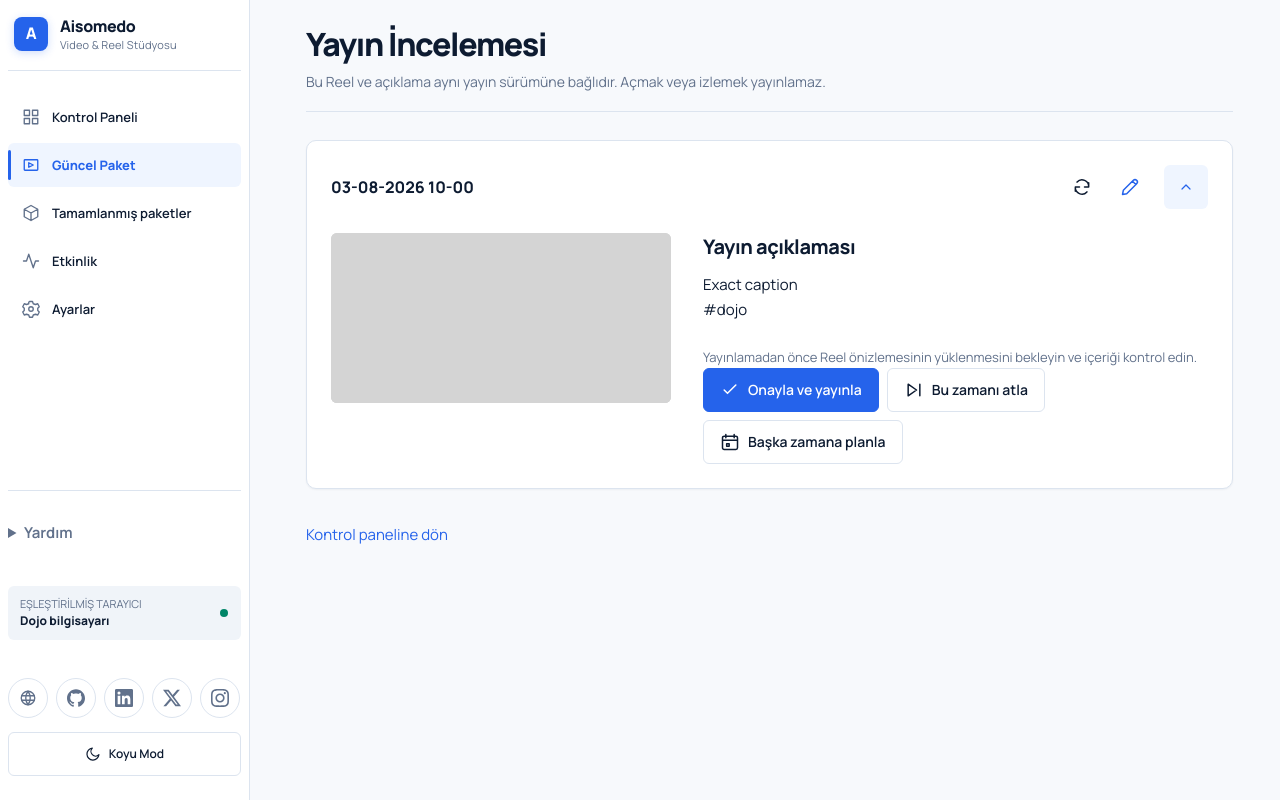
Test case: successful approval HTTP response with publication failure keeps every decision open
Expected: the text "Exact caption #dojo" is shown, [703,274,798,320]
Expected: the button "Bu zamanı atla" is enabled, [887,368,1045,412]
Click the button "Onayla ve yayınla" at (791, 390), box [703,368,879,412]
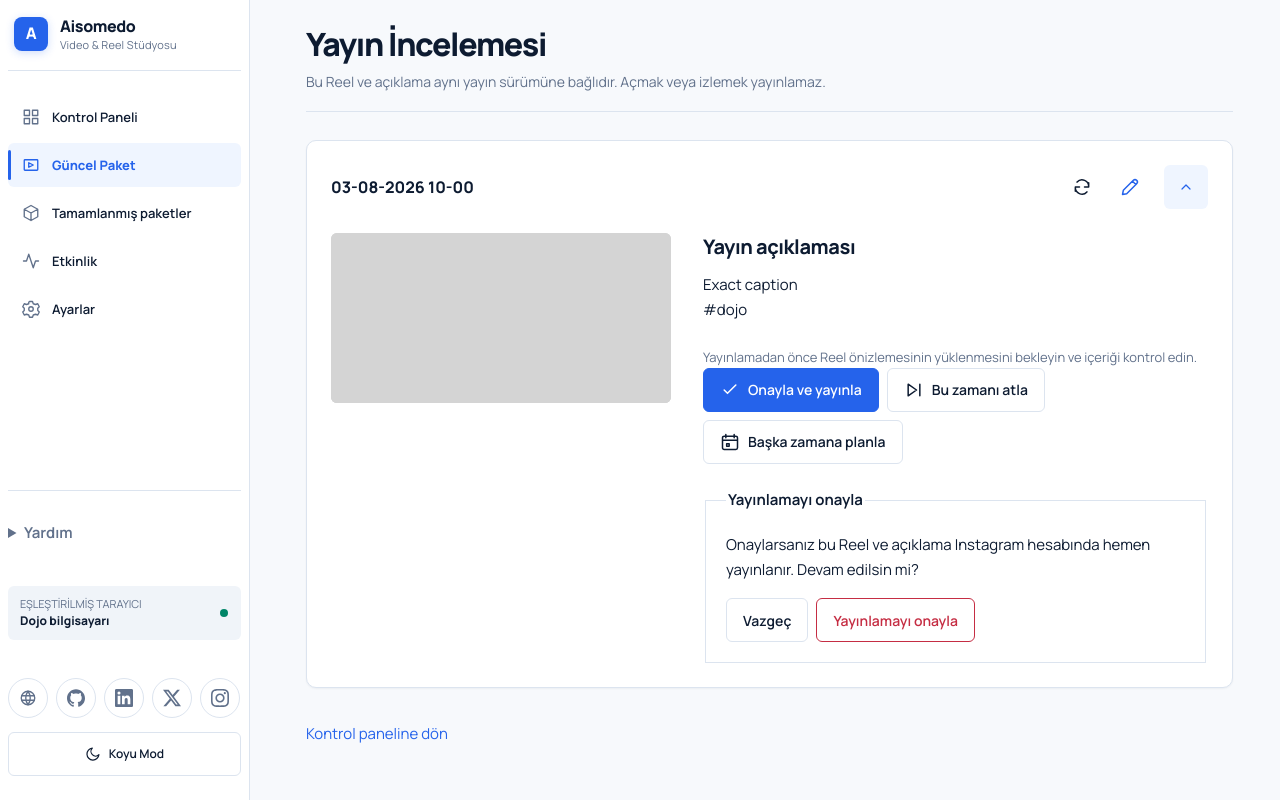
Click the button "Yayınlamayı onayla" at (896, 620), box [816,598,975,642]
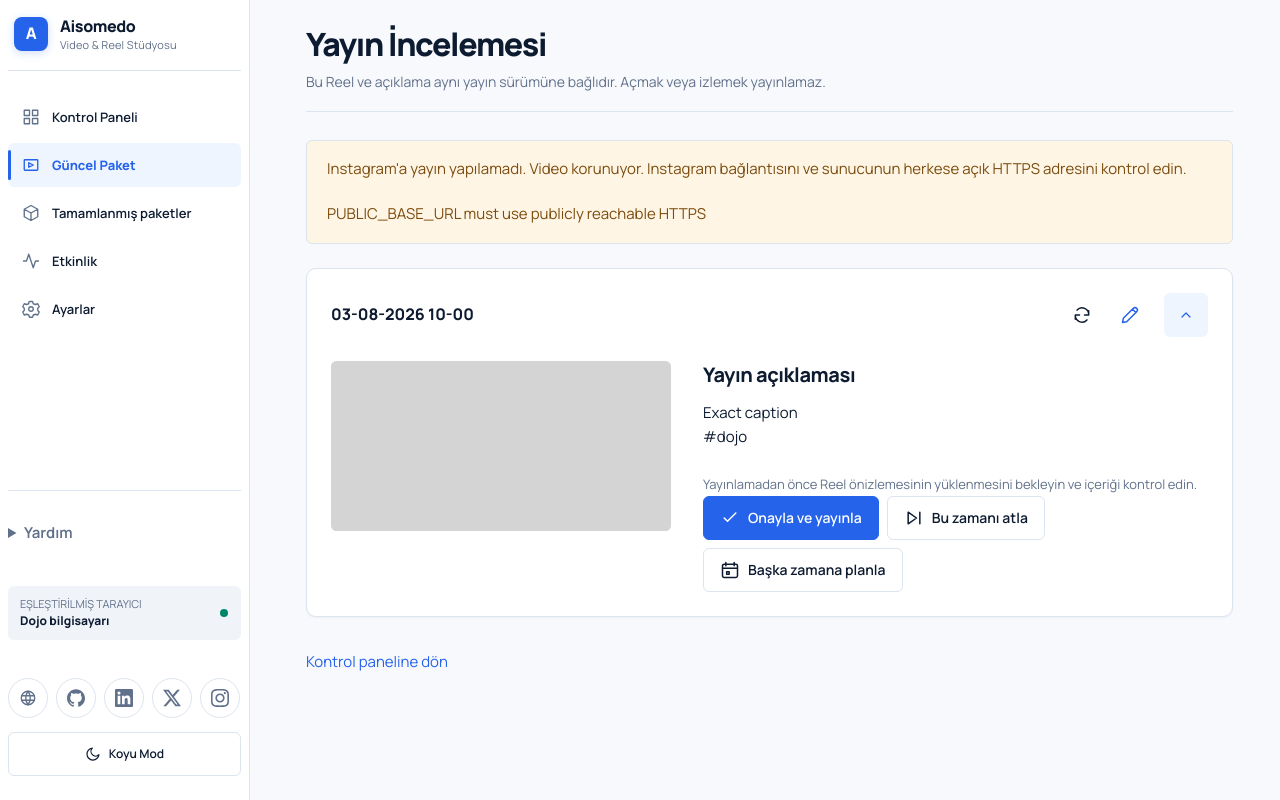
Result: the message shows "Instagram'a yayın yapılamadı" at [327,158,1186,179]
Result: the message shows "PUBLIC_BASE_URL must use publicly reachable HTTPS" at [327,203,706,224]
Result: the message shows "Video korunuyor" at [327,158,1186,179]
